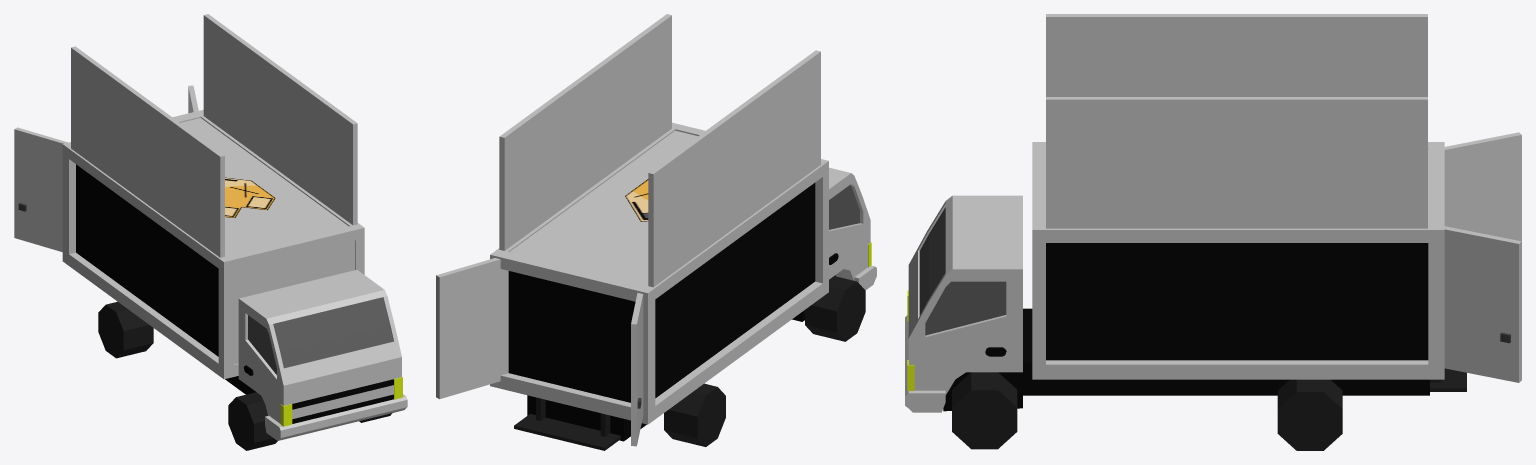
Rendered from DeliveryTruck_Enemy.obj.
3 views of the same model, side by side, from view 1: azimuth 30°, elevation 25°; view 2: azimuth 150°, elevation 25°; view 3: azimuth 270°, elevation 25° (orthographic). The views are drawn at different scales.
Visible parts, largest first — view 1: TruckBed, Gate, GarbageTruck, Gate.001, Wheel.001, Wheel, FoxDecals; view 2: TruckBed, Gate, Gate.001, GarbageTruck, Wheel.001, Wheel, Stand, FoxDecals; view 3: Gate, TruckBed, GarbageTruck, Gate.001, Wheel, Wheel.001, Stand.
Part boxes in pixels (left/top/right/bottom): TruckBed: left=62, top=109, right=364, bottom=379; Gate: left=71, top=14, right=357, bottom=257; GarbageTruck: left=225, top=270, right=407, bottom=440; Gate.001: left=14, top=85, right=198, bottom=251; Wheel.001: left=98, top=301, right=153, bottom=358; Wheel: left=228, top=392, right=392, bottom=450; FoxDecals: left=225, top=177, right=275, bottom=218; TruckBed: left=490, top=122, right=828, bottom=424; Gate: left=499, top=14, right=820, bottom=287; Gate.001: left=436, top=258, right=643, bottom=446; GarbageTruck: left=527, top=167, right=876, bottom=441; Wheel.001: left=664, top=383, right=725, bottom=446; Wheel: left=805, top=276, right=865, bottom=341; Stand: left=514, top=397, right=620, bottom=450; FoxDecals: left=625, top=179, right=648, bottom=221; Gate: left=1046, top=14, right=1427, bottom=228; TruckBed: left=1032, top=142, right=1444, bottom=379; GarbageTruck: left=905, top=195, right=1429, bottom=412; Gate.001: left=1444, top=132, right=1521, bottom=382; Wheel: left=952, top=372, right=1017, bottom=449; Wheel.001: left=1277, top=379, right=1342, bottom=450; Stand: left=1430, top=368, right=1466, bottom=391.
Size of the model in its own units: 31.03 by 45 by 72.38.
